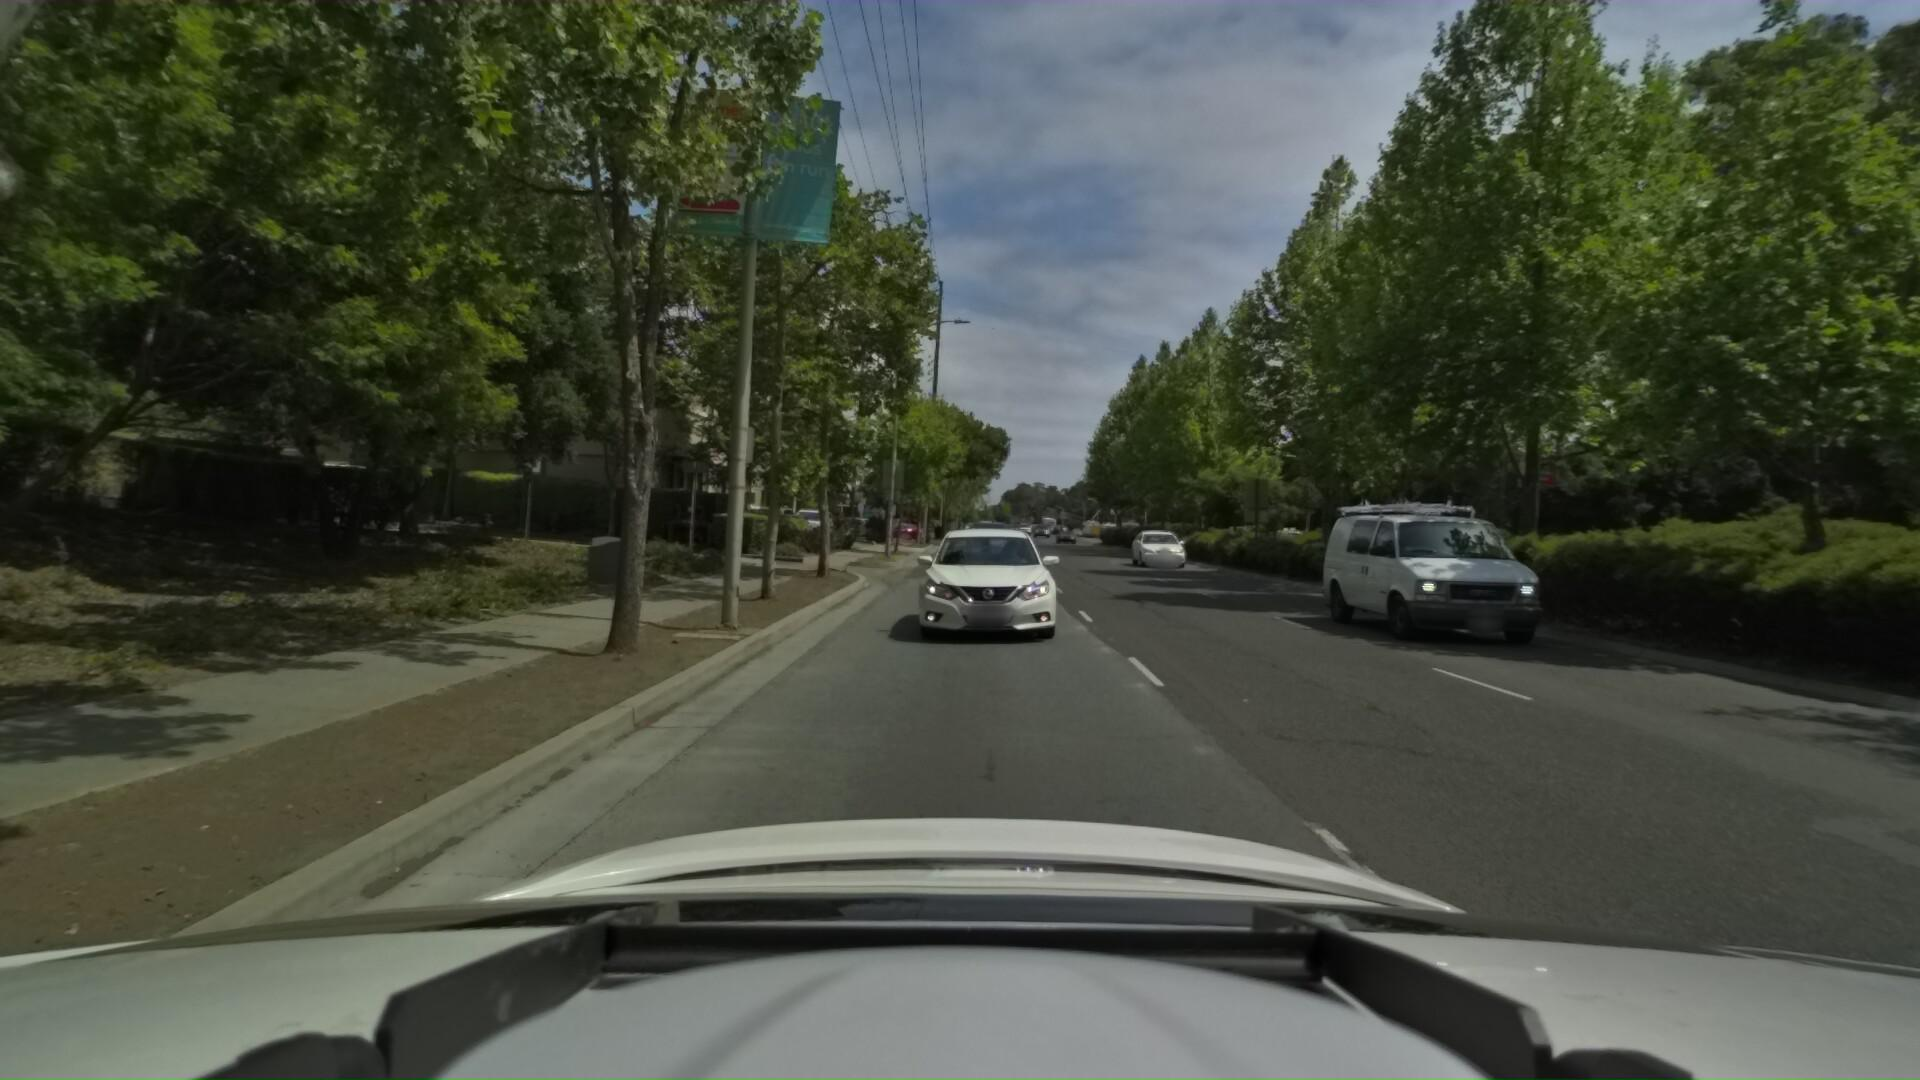car: (1283, 481, 1513, 640), (903, 520, 1065, 647), (1120, 512, 1183, 570), (785, 504, 843, 546), (964, 518, 1015, 562), (861, 512, 923, 541)
